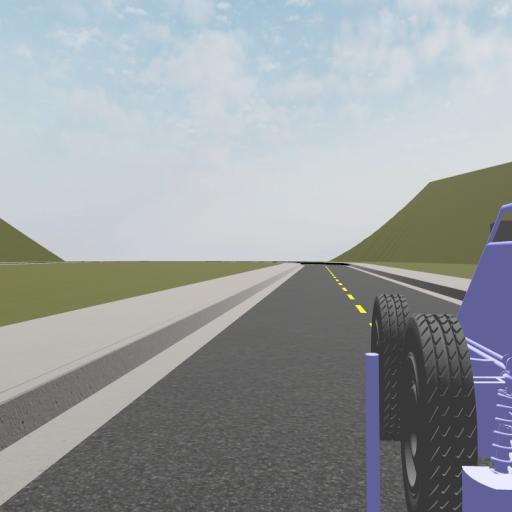ERP-42: (360, 198, 511, 510)
